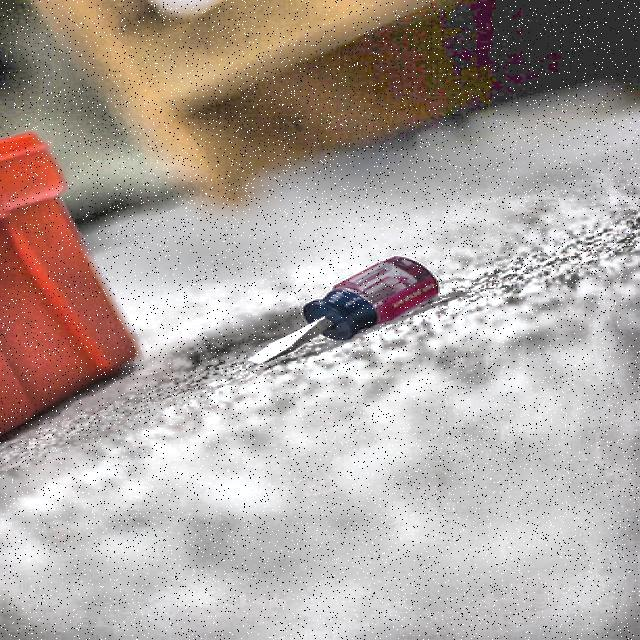screwdriver: (252, 256, 441, 364)
